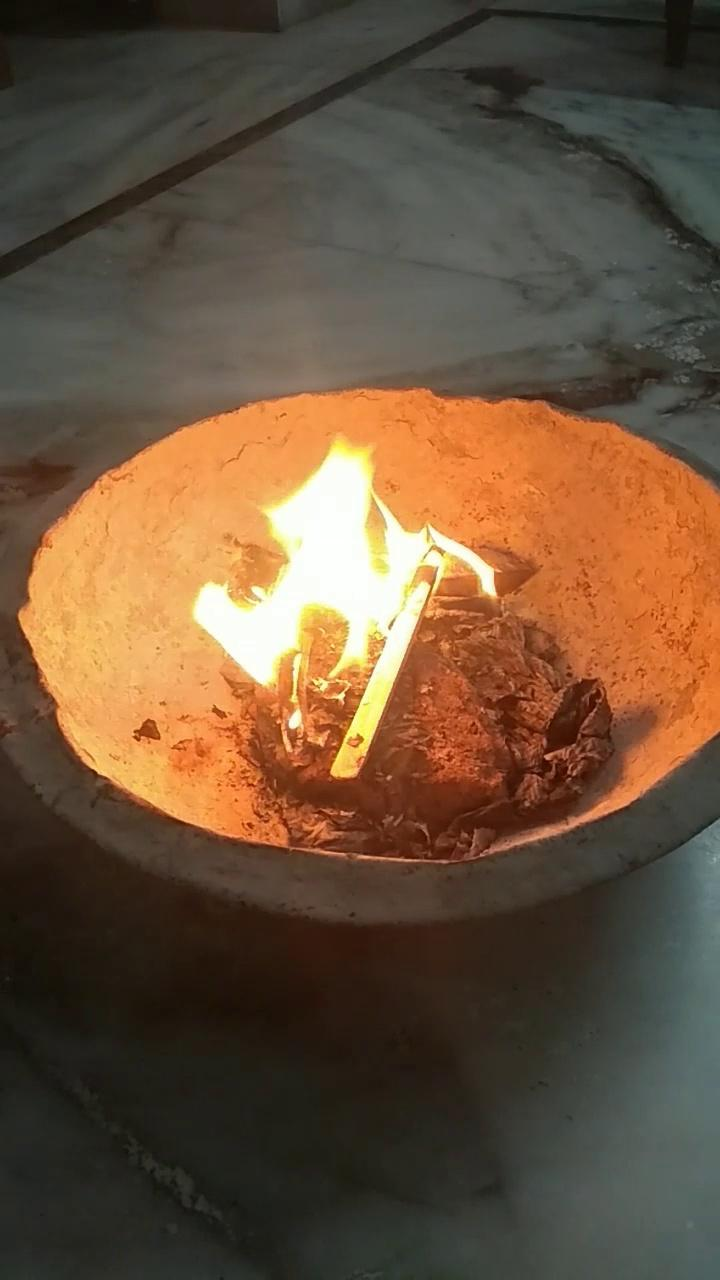fire: (169, 416, 507, 710)
